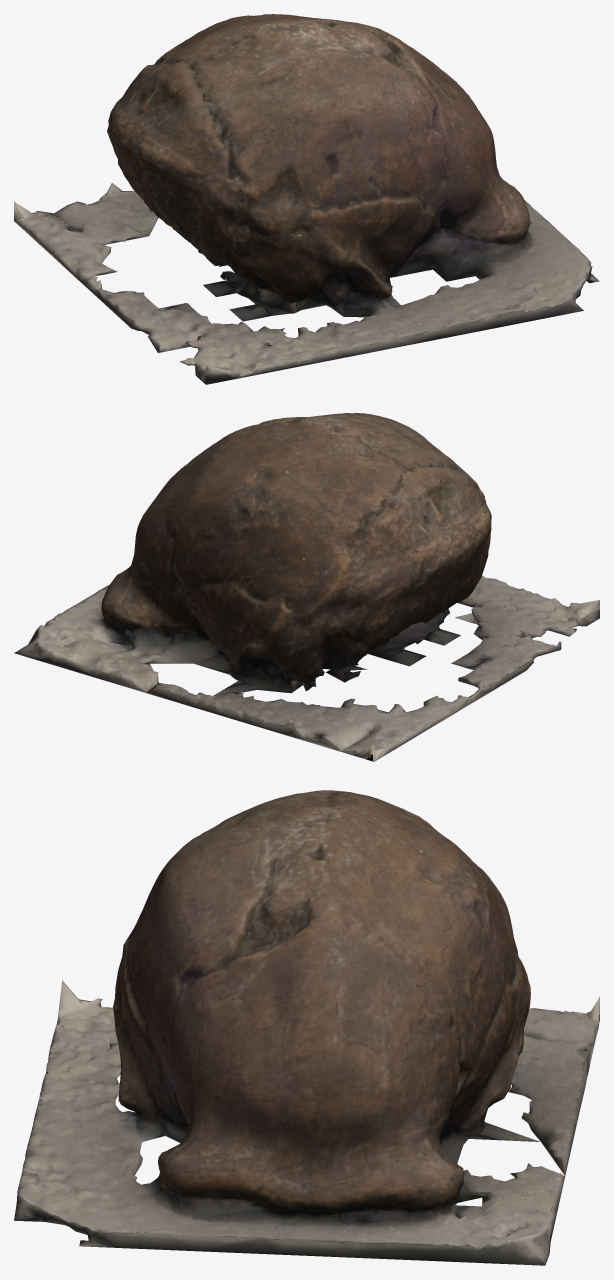
The model's file is zhou-skull.glb.
The picture shows the model from 3 angles, top to bottom: view 1: azimuth 30°, elevation 25°; view 2: azimuth 150°, elevation 25°; view 3: azimuth 270°, elevation 25°; orthographic projection. The views are drawn at different scales.
Parts seen in each view (by area): view 1: Zhoukoudian Skull; view 2: Zhoukoudian Skull; view 3: Zhoukoudian Skull.
Boxes of the visible parts, x1,y1,x2,y2 form: Zhoukoudian Skull: (14, 14, 599, 384); Zhoukoudian Skull: (14, 413, 599, 761); Zhoukoudian Skull: (14, 790, 599, 1265).
Bounding box in the file's own units: 4.11 × 2.16 × 3.87.
1 material, 1 textured.
